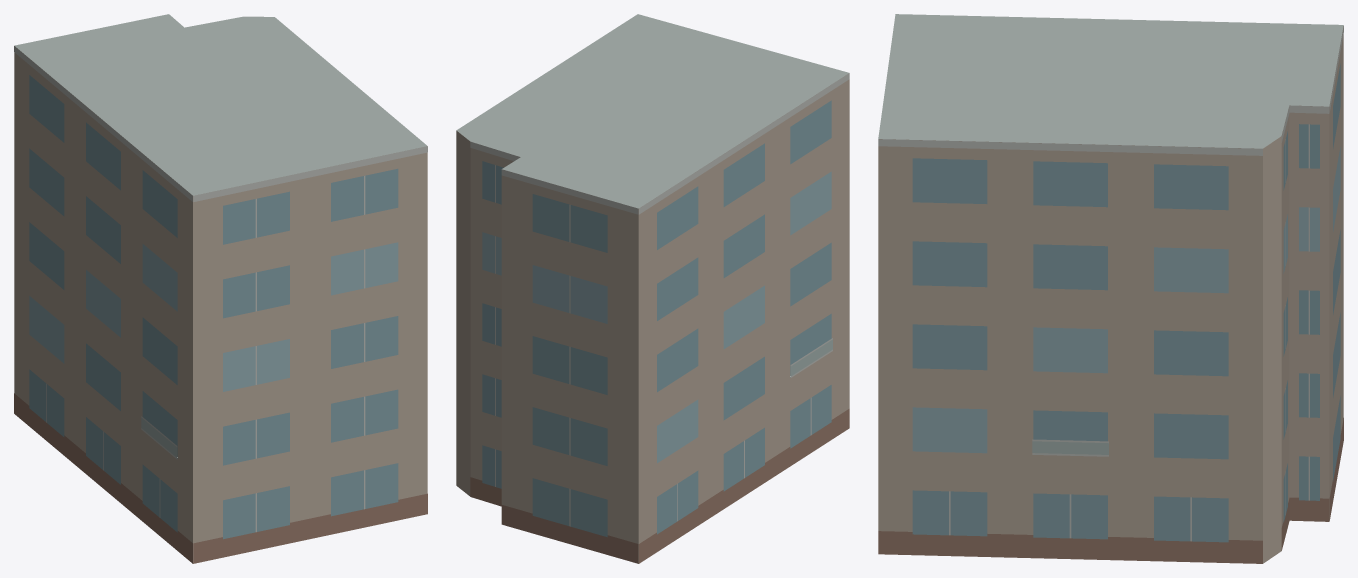
Rendered from survey-upis-32859449.glb.
3 renders of one model, left to right at view 1: azimuth 30°, elevation 25°; view 2: azimuth 150°, elevation 25°; view 3: azimuth 270°, elevation 25°, orthographic. The views are drawn at different scales.
Visible parts, largest first — view 1: survey-upis-32859449.tmp; view 2: survey-upis-32859449.tmp; view 3: survey-upis-32859449.tmp.
Part boxes in pixels (x1,y1,x2,y2): survey-upis-32859449.tmp: [14, 14, 427, 563]; survey-upis-32859449.tmp: [456, 14, 849, 563]; survey-upis-32859449.tmp: [878, 14, 1343, 563].
Bounding box in the file's own units: 9.73 × 13.98 × 14.22.
